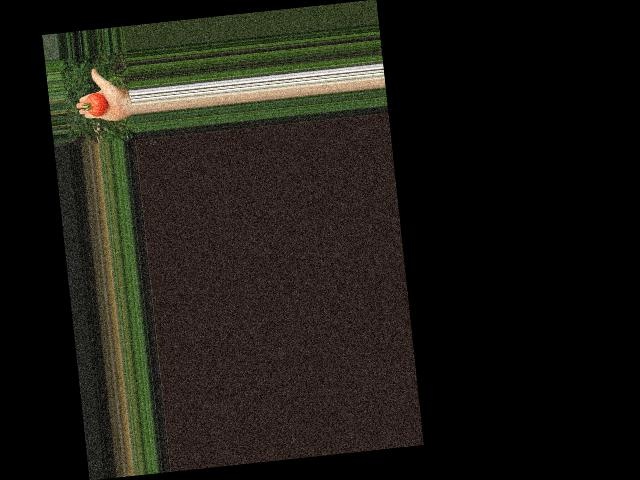tomato: (85, 92, 108, 118)
